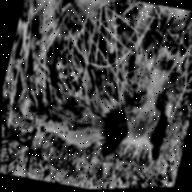boar: (2, 0, 192, 176)
